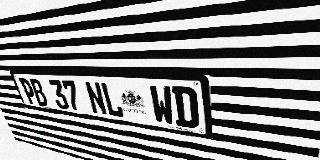3: (48, 79, 70, 110)
7: (60, 80, 83, 112)
B: (28, 78, 49, 107)
D: (171, 86, 199, 129)
L: (100, 82, 125, 118)
N: (84, 81, 108, 116)
P: (18, 78, 39, 105)
W: (148, 85, 175, 126)
